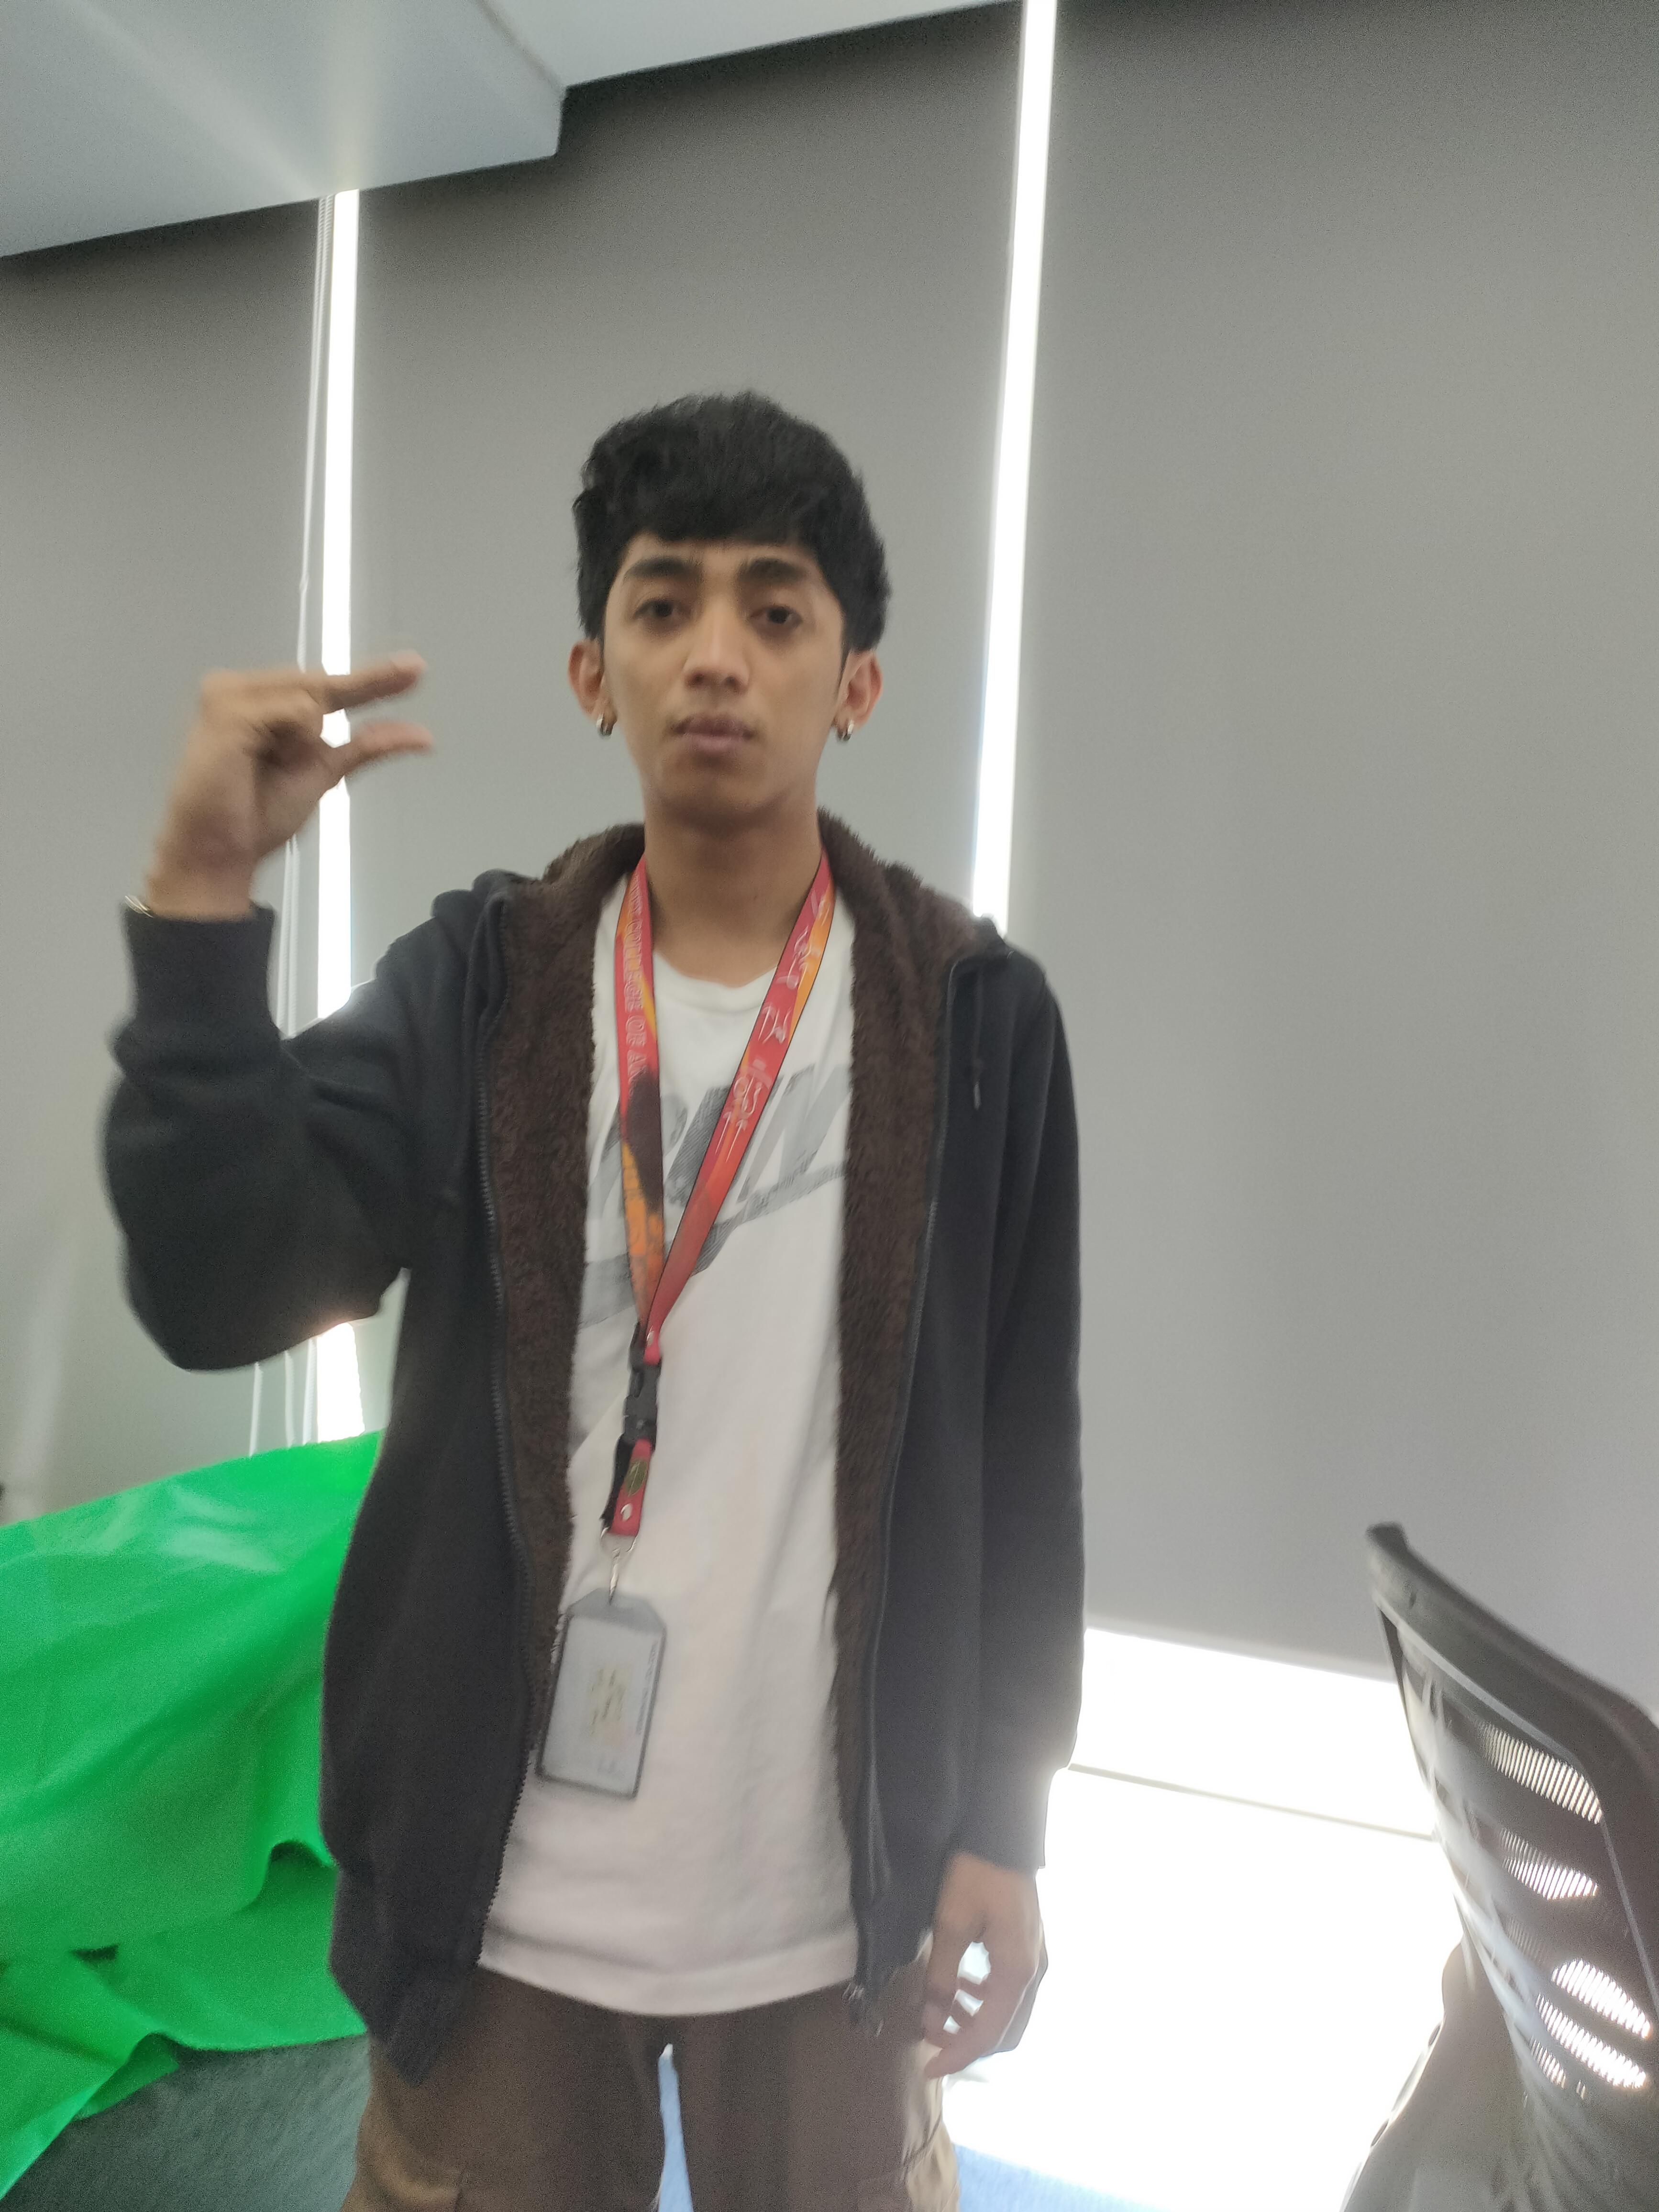No: (131, 648, 450, 834)
